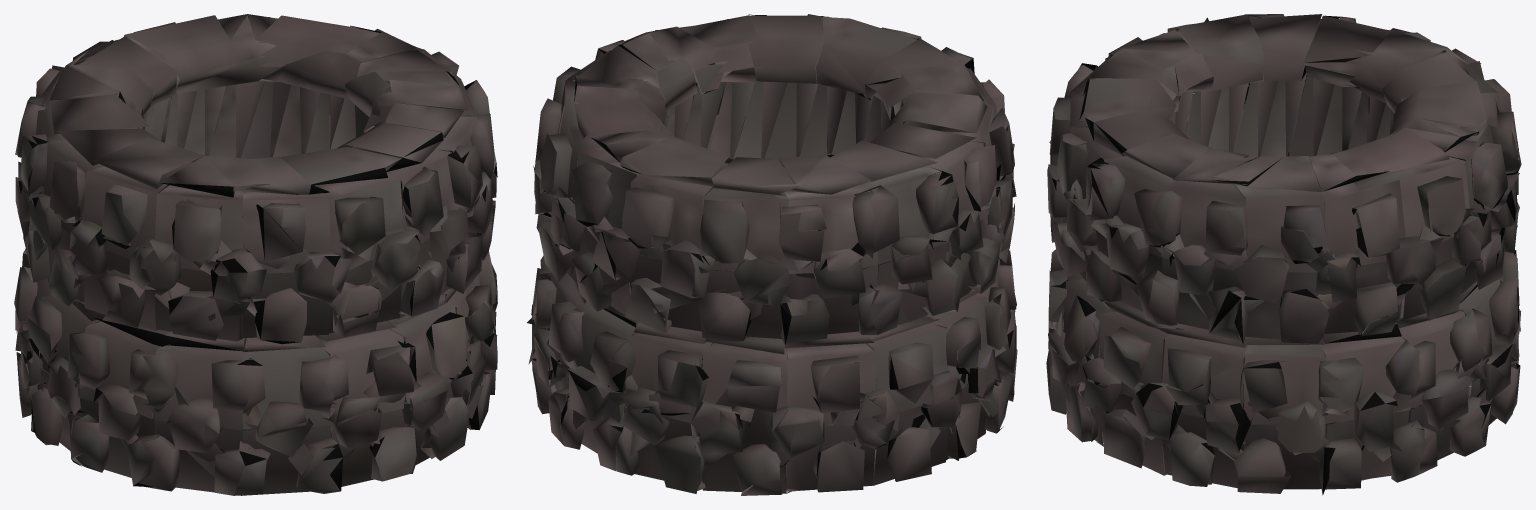
File: truck_wheels.glb
3 views of the same model, side by side, from view 1: azimuth 30°, elevation 25°; view 2: azimuth 150°, elevation 25°; view 3: azimuth 270°, elevation 25° (orthographic).
Parts seen in each view (by area): view 1: Mesh0; view 2: Mesh0; view 3: Mesh0.
Part boxes in pixels (left/top/right/bottom): Mesh0: left=14, top=14, right=497, bottom=495; Mesh0: left=527, top=14, right=1017, bottom=495; Mesh0: left=1046, top=14, right=1521, bottom=495.
Bounding box in the file's own units: 1.01 × 0.7195 × 1.01.
Materials: 1 (1 with a texture image).
